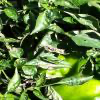Bell_pepper leaf spot: (40, 0, 66, 30), (76, 21, 96, 54), (16, 1, 39, 25), (58, 23, 75, 46), (59, 56, 77, 71), (30, 26, 46, 42), (48, 58, 59, 75), (77, 53, 91, 64), (66, 0, 78, 11), (87, 47, 99, 58), (94, 39, 99, 49)
